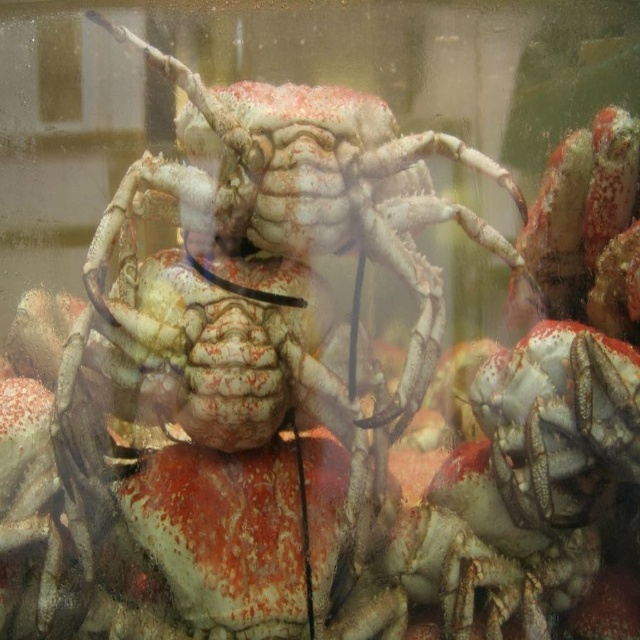Crab: (0, 11, 640, 640)
